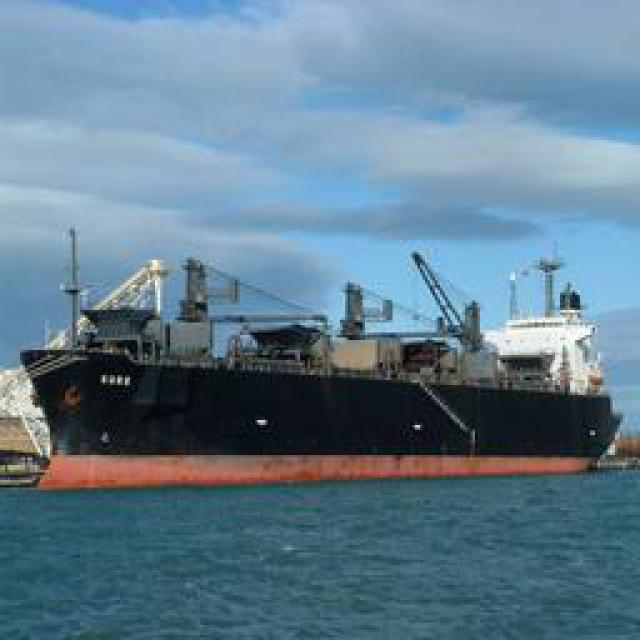Ship: (17, 242, 627, 495)
